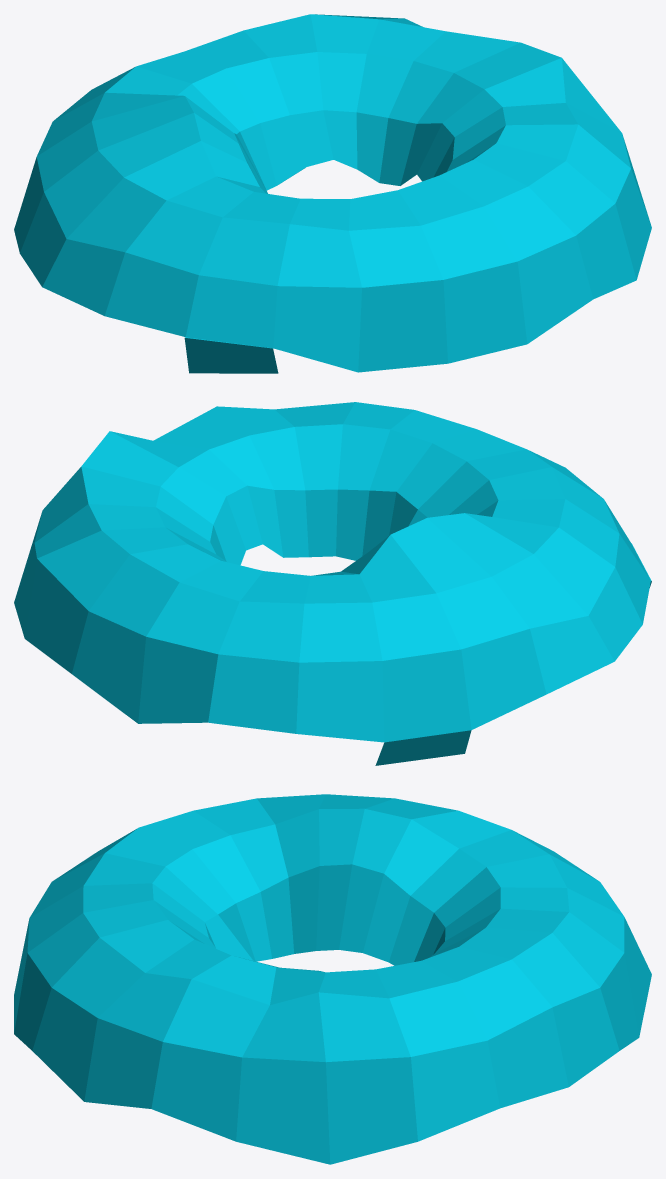
File: lowpolydonut_icing_blue.glb
3 views of the same model, one above another, from view 1: azimuth 30°, elevation 25°; view 2: azimuth 150°, elevation 25°; view 3: azimuth 270°, elevation 25° (orthographic). The views are drawn at different scales.
Visible parts, largest first — view 1: Icing; view 2: Icing; view 3: Icing.
Part boxes in pixels (x1=…): Icing: x1=14, y1=14, x2=651, y2=373; Icing: x1=14, y1=402, x2=651, y2=765; Icing: x1=14, y1=794, x2=651, y2=1164.
Size of the model in its own units: 0.0925 by 0.0264 by 0.0892.
